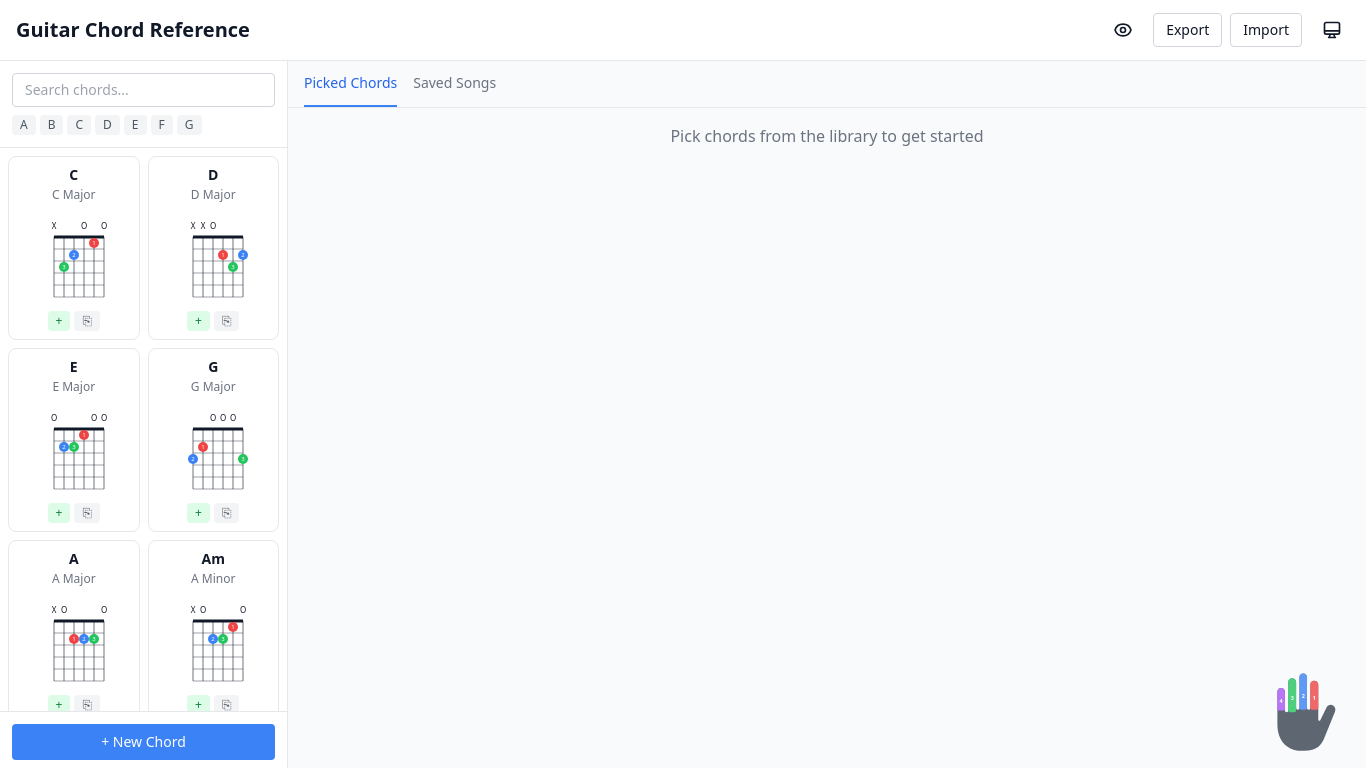
it: App › saves picked chords as a song via prompt
Click the button named "pick chord". click: x=59, y=321
box: [48,311,70,331]
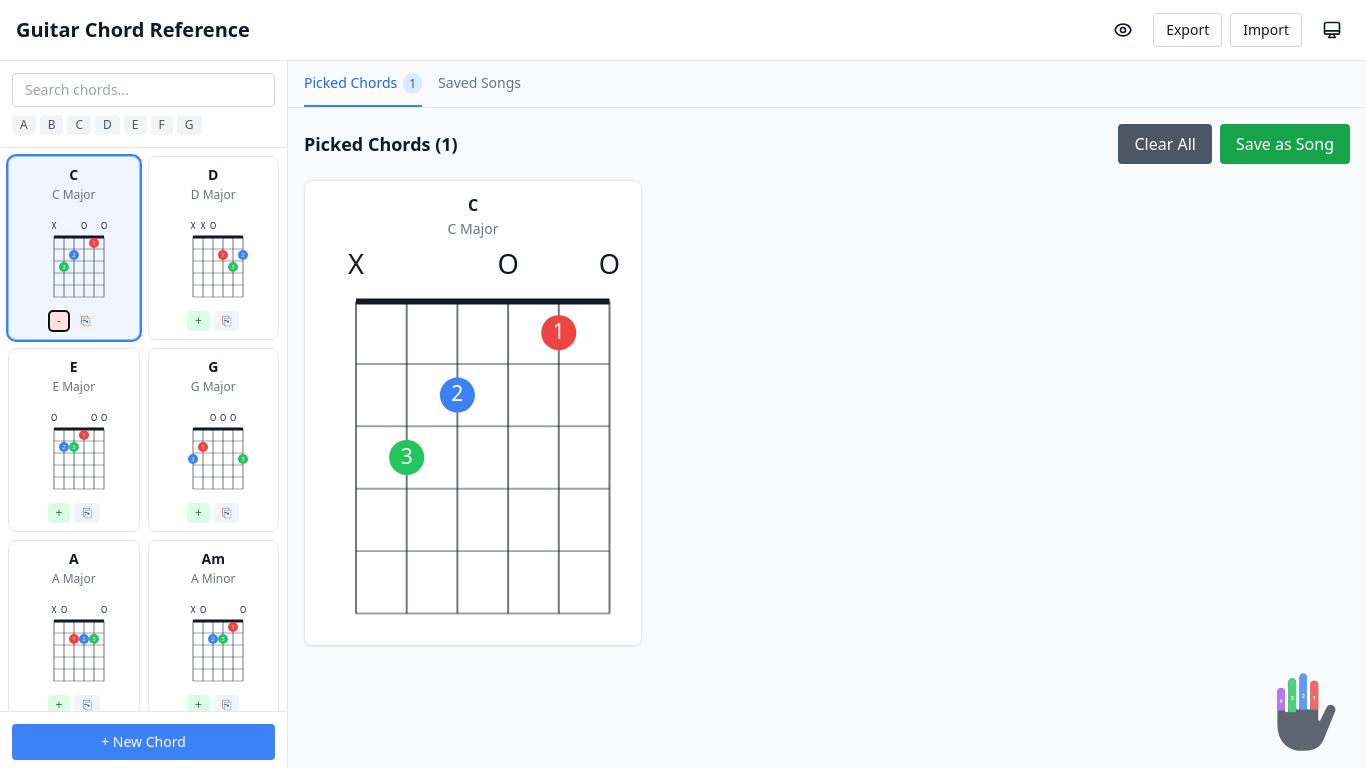
Click the button "Save as Song". click: x=1285, y=144
box: [1220,124,1350,164]
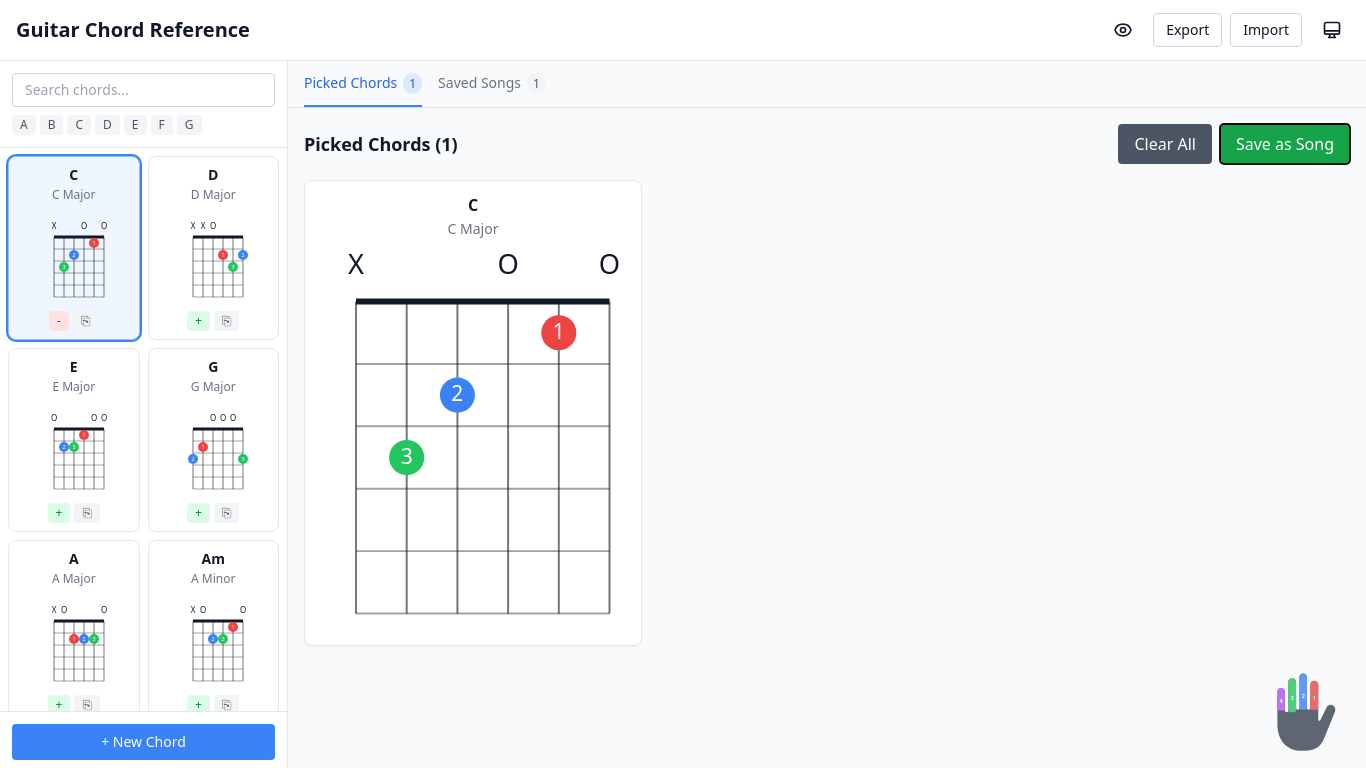
Note: Switch to songs tab — song should be listed
Click the button with aria-label "saved songs tab". click: x=492, y=84
box: [438,61,546,107]
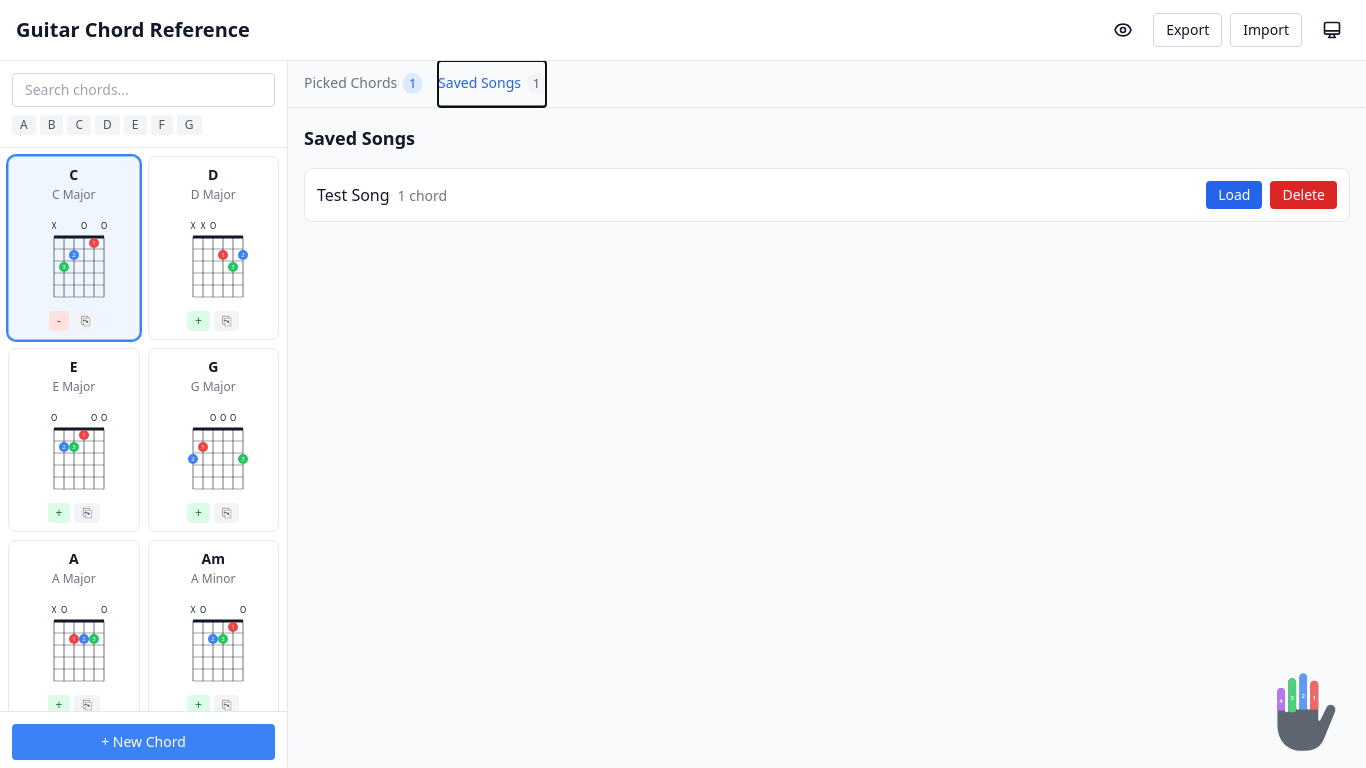
Result: the text "Test Song" is shown at [317,184,390,206]
